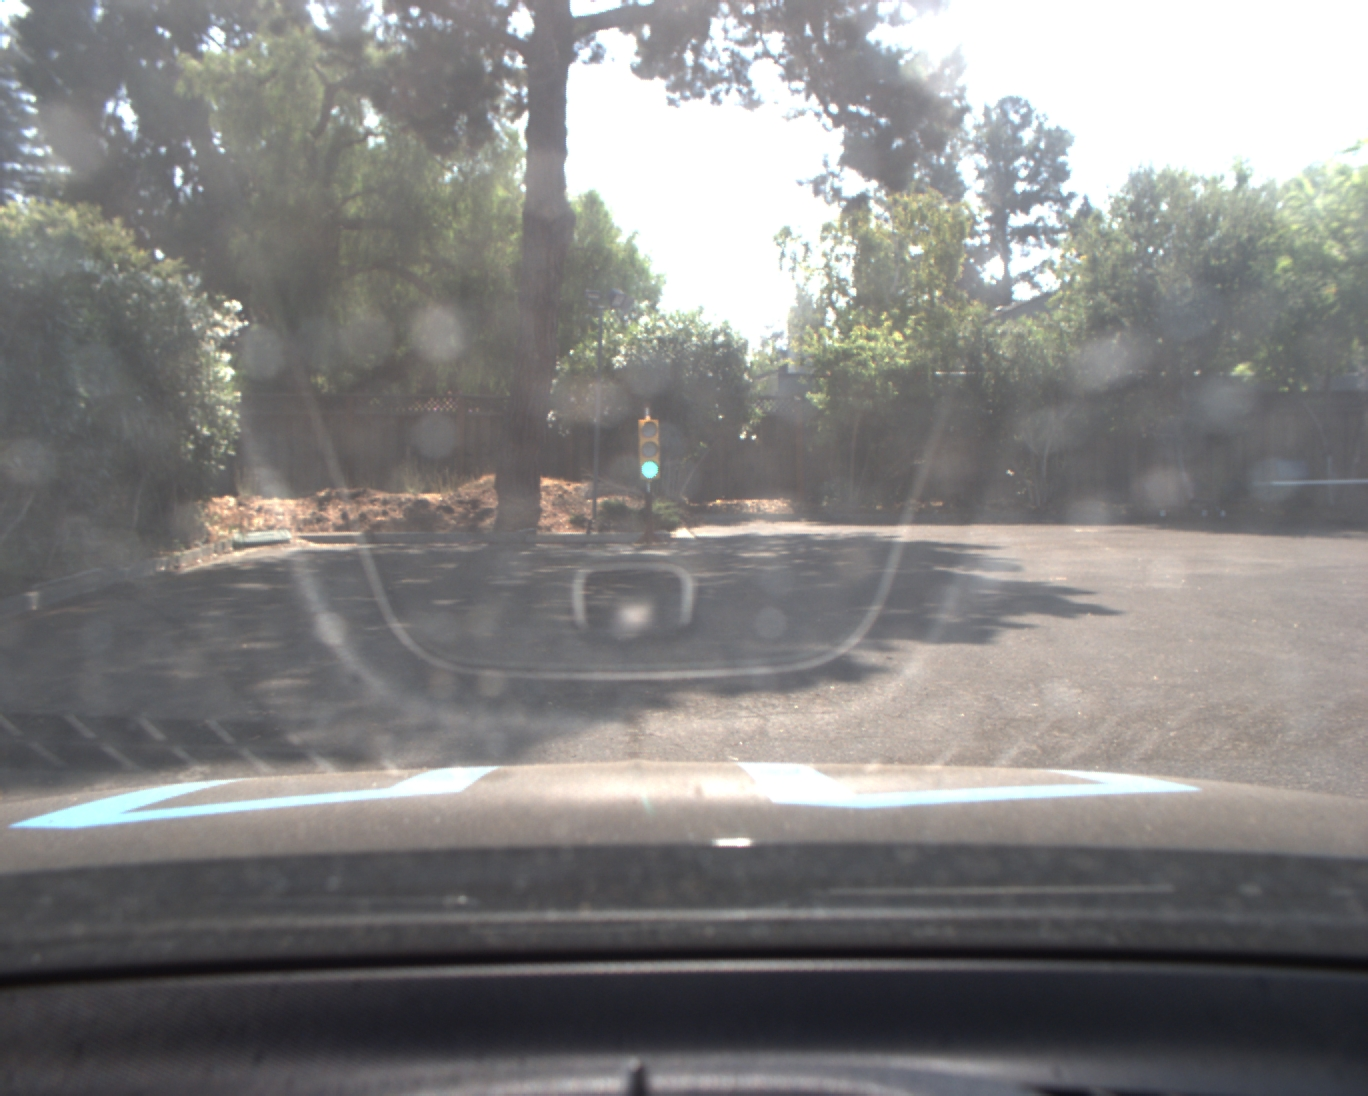green: (636, 417, 665, 485)
